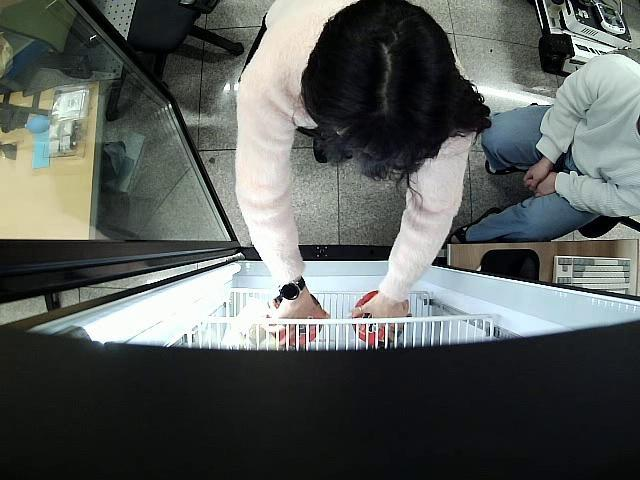01_ShinRamen_L: (268, 293, 326, 348), (352, 292, 408, 346)
